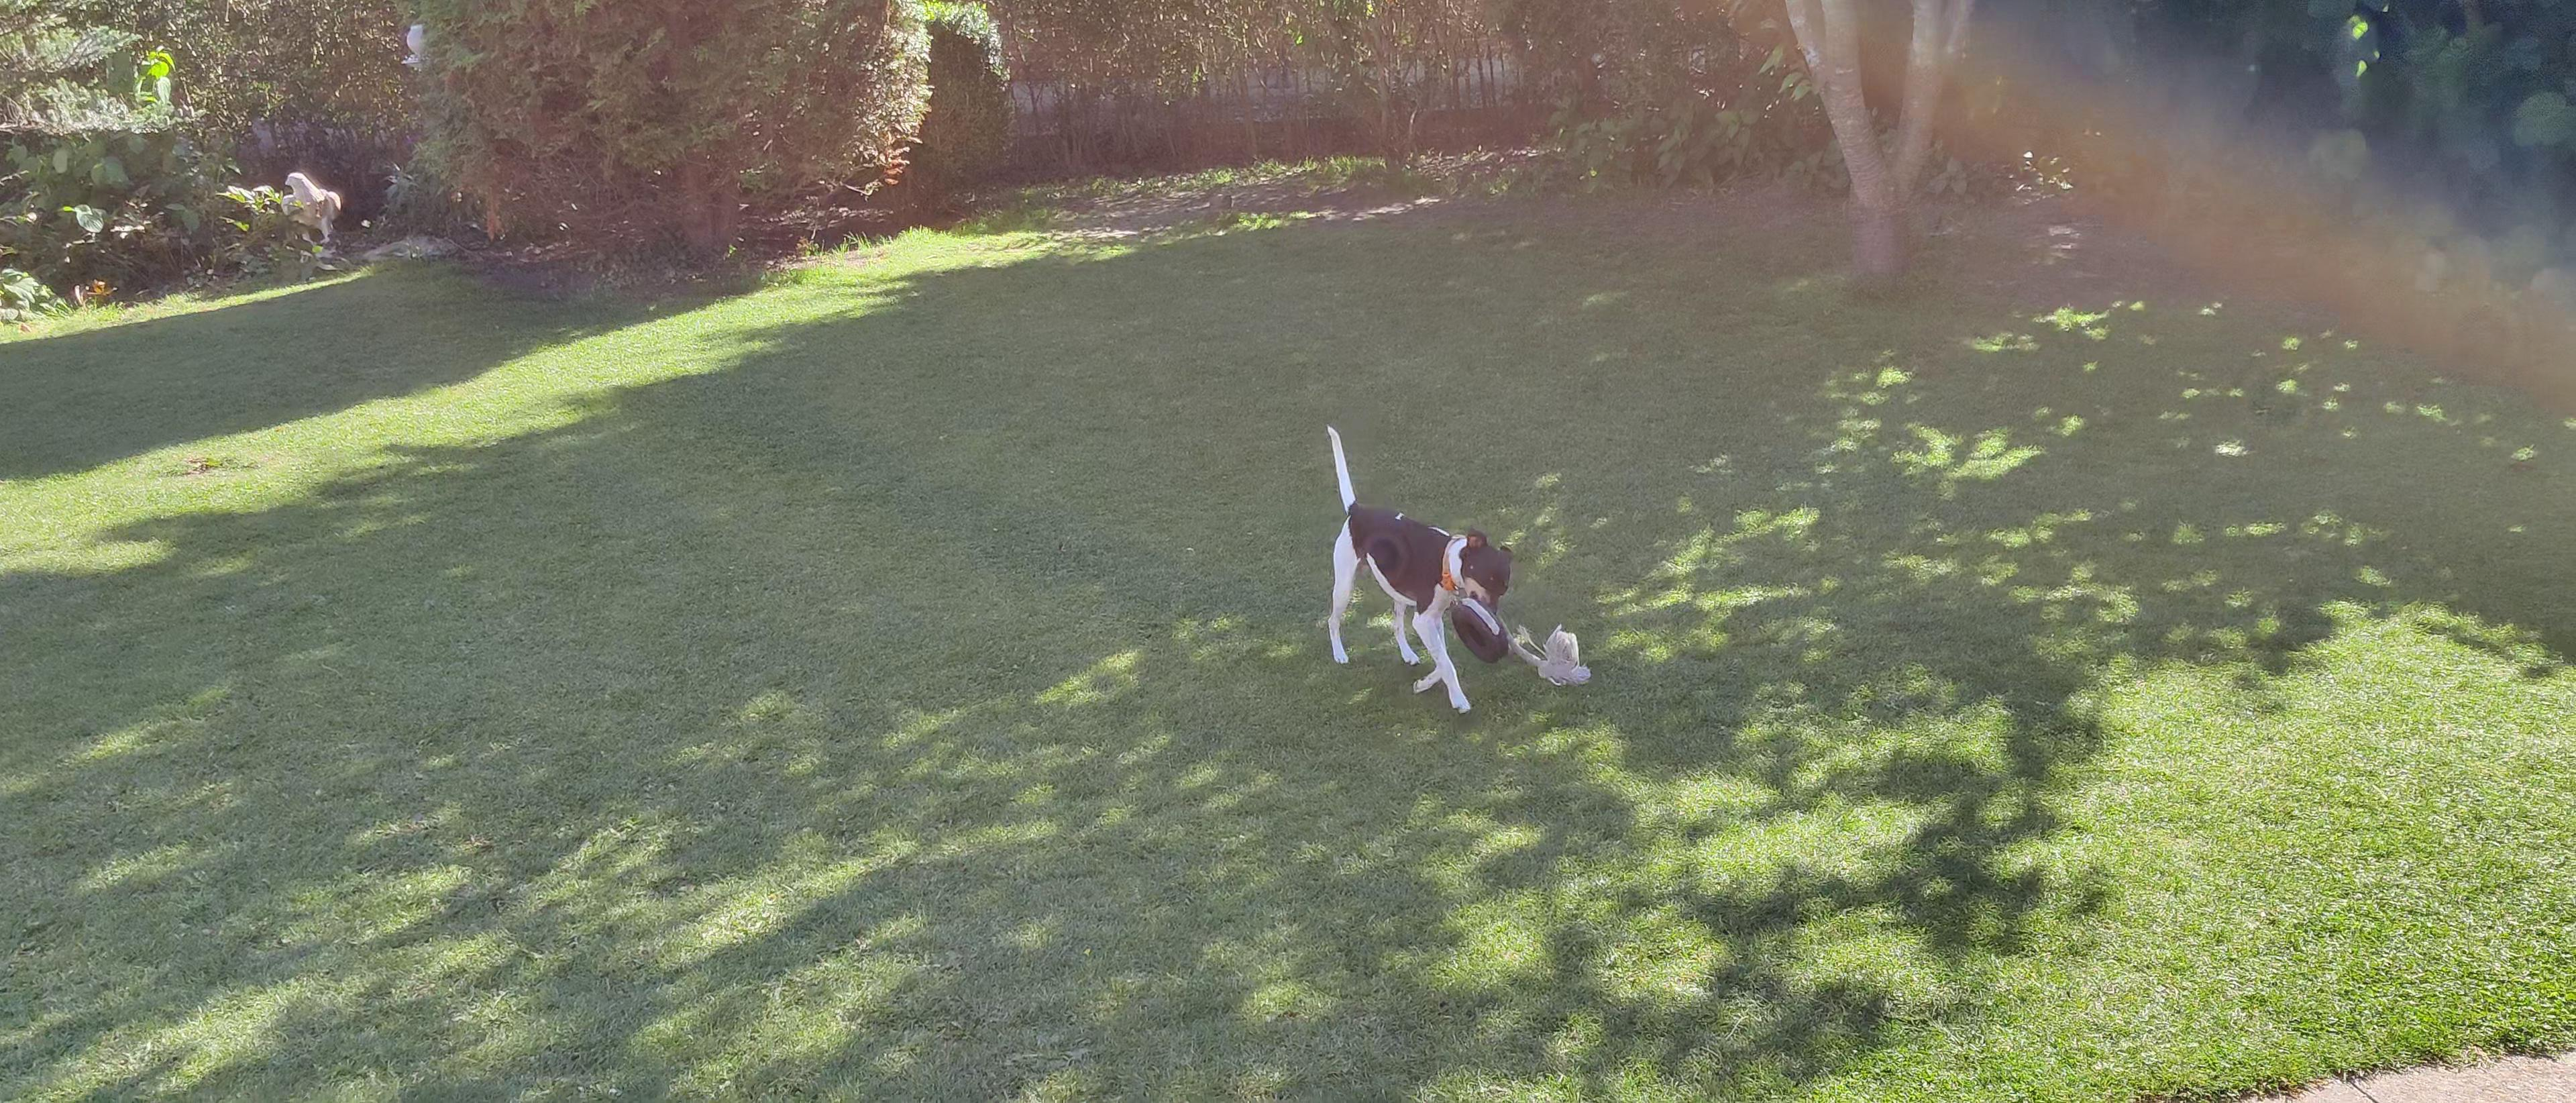Dog: (1314, 411, 1518, 715)
